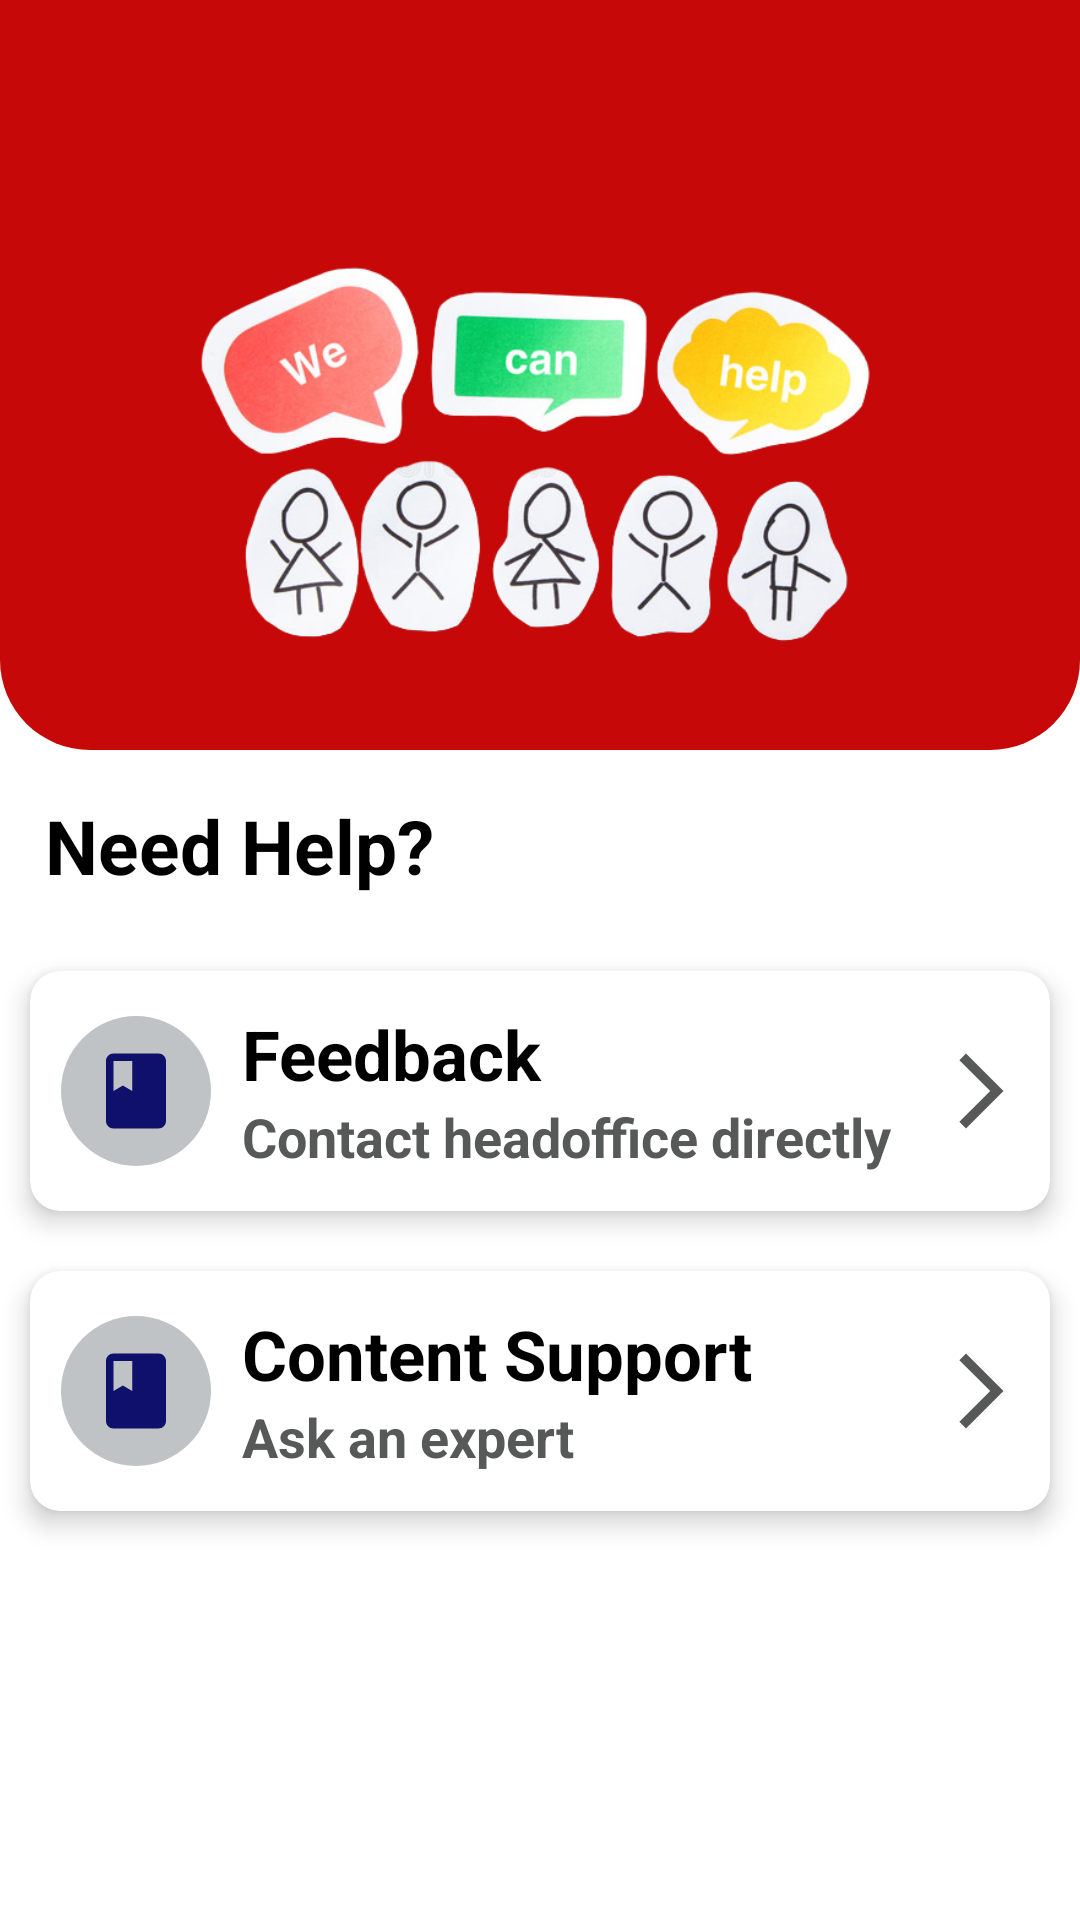

Icon bounding boxes for this 1080×1920 phone screenshot, format (x1=x1, y1=y1, x2=x2, y2=y2):
forward arrow: (x1=959, y1=1054, x2=1003, y2=1128), (x1=959, y1=1354, x2=1003, y2=1428)
